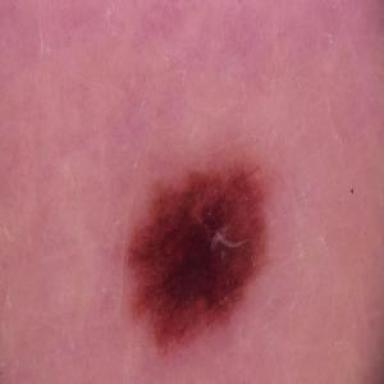Melanoma: (127, 165, 264, 351)
